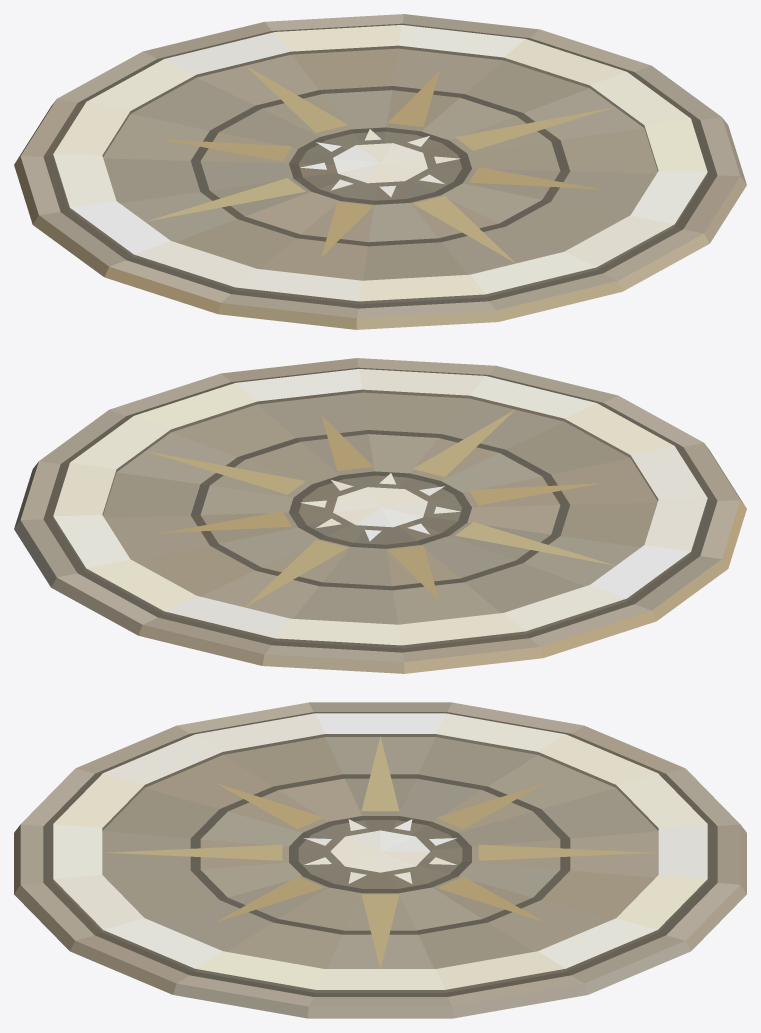
Rendered from sun_seal.glb.
3 views of the same model, one above another, from view 1: azimuth 30°, elevation 25°; view 2: azimuth 150°, elevation 25°; view 3: azimuth 270°, elevation 25° (orthographic).
Parts seen in each view (by area): view 1: sun_seal, seal_glow; view 2: sun_seal, seal_glow; view 3: sun_seal, seal_glow.
Part boxes in pixels (x1,y1,x2,y2): sun_seal: (14,14,746,329); seal_glow: (53,25,707,301); sun_seal: (14,358,746,673); seal_glow: (53,369,707,645); sun_seal: (14,702,746,1018); seal_glow: (53,713,707,989).
Size of the model in its own units: 4.39 by 0.08 by 4.39.
